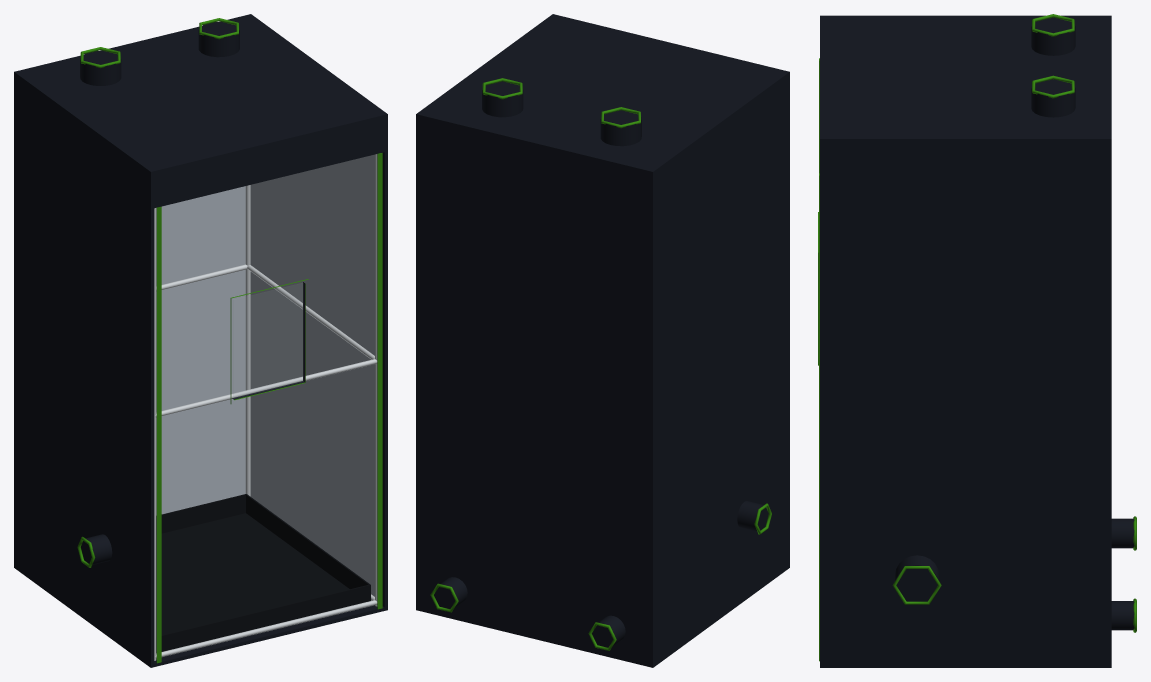
Rendered from grow-tent--100x100x200.glb.
3 renders of one model, left to right at view 1: azimuth 30°, elevation 25°; view 2: azimuth 150°, elevation 25°; view 3: azimuth 270°, elevation 25°, orthographic. The views are drawn at different scales.
Parts seen in each view (by area): view 1: panel_side_left, lining_right, panel_top, lining_back, floor_tray, panel_upper_front, tray_lip_front, panel_side_right, zip_door_1, zip_door_2, panel_bottom, tray_lip_right (+9 smaller); view 2: panel_back, panel_side_left, panel_top, panel_side_right, panel_bottom, vent_port_roof_1_sleeve, vent_port_roof_2_sleeve; view 3: panel_side_right, panel_top, panel_bottom, vent_port_side_right_1_iris, vent_port_roof_1_sleeve, vent_port_roof_2_sleeve, cable_port_1_sleeve, cable_port_2_sleeve, zip_door_2.
Part boxes in pixels (x1,y1,x2,y2): panel_side_left: (14, 75, 154, 664); lining_right: (250, 154, 374, 596); panel_top: (14, 14, 387, 175); lining_back: (156, 186, 245, 515); floor_tray: (156, 513, 349, 636); panel_upper_front: (154, 118, 384, 208); tray_lip_front: (156, 584, 370, 652); panel_side_right: (382, 117, 387, 607); zip_door_1: (156, 206, 161, 663); zip_door_2: (377, 153, 382, 609); panel_bottom: (14, 564, 387, 667); tray_lip_right: (246, 494, 369, 589); panel_back: (419, 118, 649, 663); panel_side_left: (649, 75, 789, 664); panel_top: (416, 14, 789, 175); panel_side_right: (416, 117, 419, 607); panel_bottom: (416, 564, 789, 667); vent_port_roof_1_sleeve: (600, 117, 641, 146); vent_port_roof_2_sleeve: (482, 90, 523, 117); panel_side_right: (820, 142, 1111, 664); panel_top: (820, 15, 1111, 142); panel_bottom: (820, 664, 1111, 667); vent_port_side_right_1_iris: (896, 565, 938, 601); vent_port_roof_1_sleeve: (1031, 26, 1075, 55); vent_port_roof_2_sleeve: (1031, 87, 1075, 117); cable_port_1_sleeve: (1111, 518, 1134, 548); cable_port_2_sleeve: (1111, 601, 1134, 630); zip_door_2: (819, 173, 819, 661).
Size of the model in its own units: 1.17 by 2.09 by 1.09.
